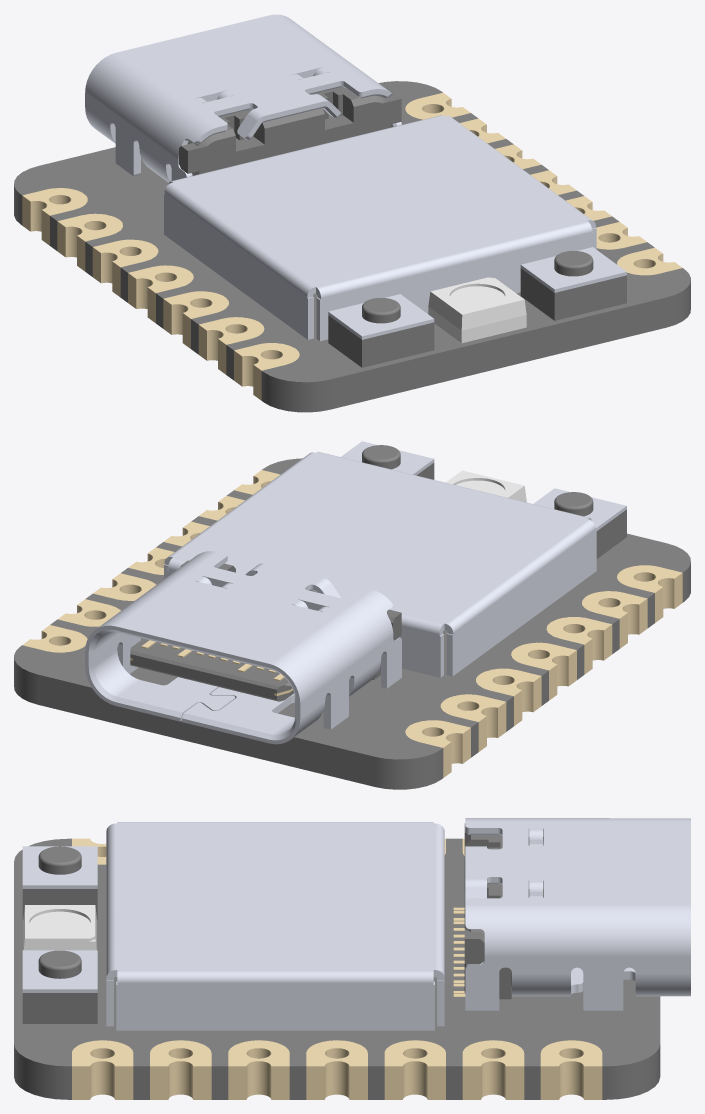
The picture shows the model from 3 angles, top to bottom: view 1: azimuth 30°, elevation 25°; view 2: azimuth 150°, elevation 25°; view 3: azimuth 270°, elevation 25°; orthographic projection. The views are drawn at different scales.
Bounding box in the file's own units: 0.0175 × 0.0044 × 0.022.
